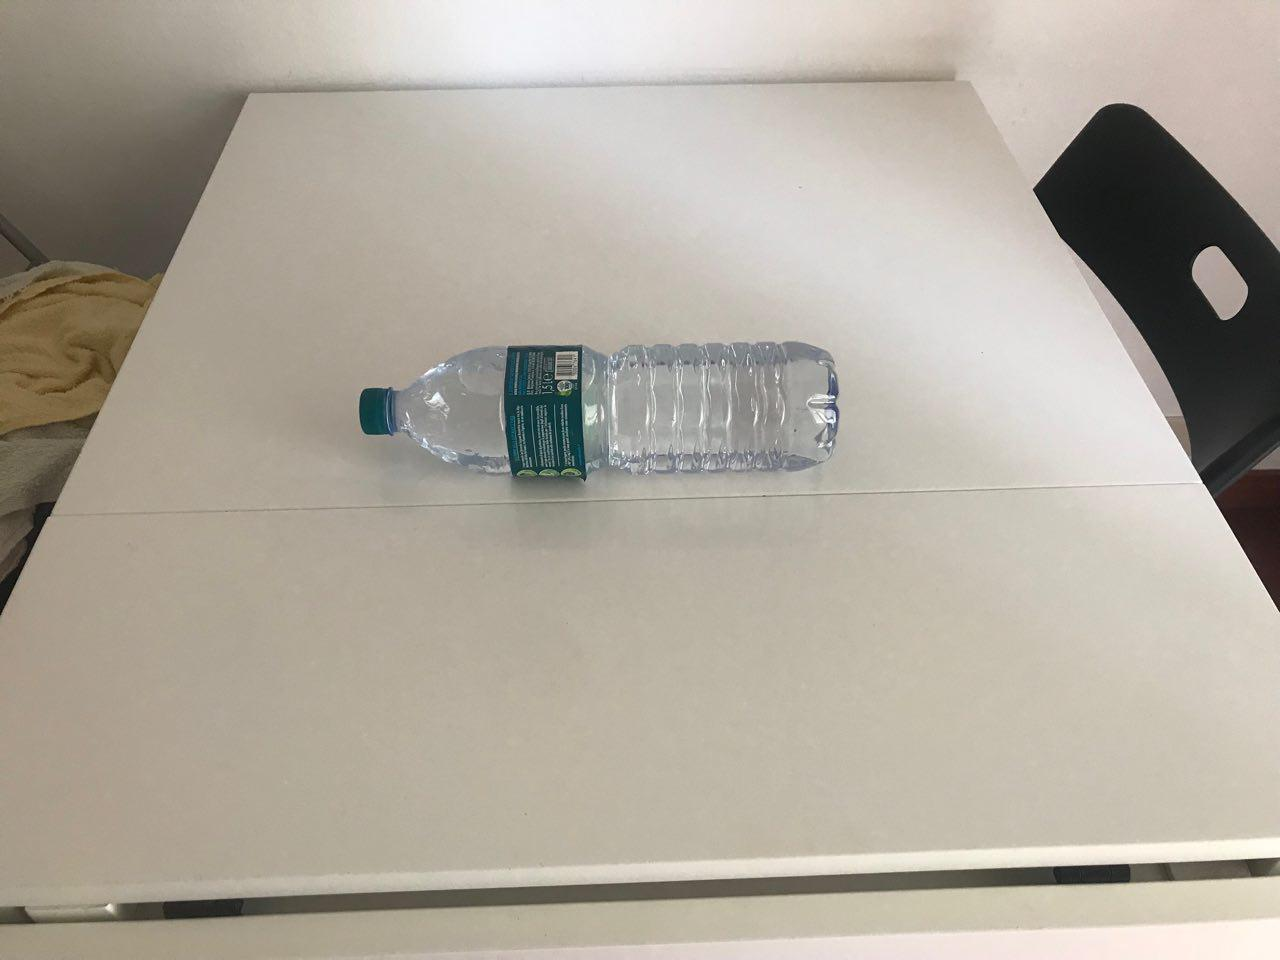san_bernardo: (356, 340, 841, 479)
